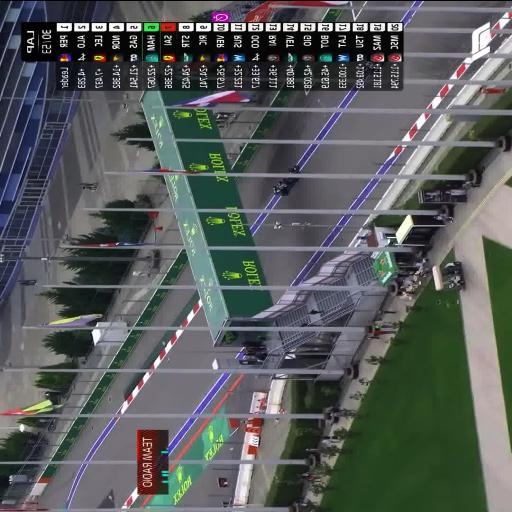f1_car: (273, 176, 298, 194), (288, 165, 299, 172)
